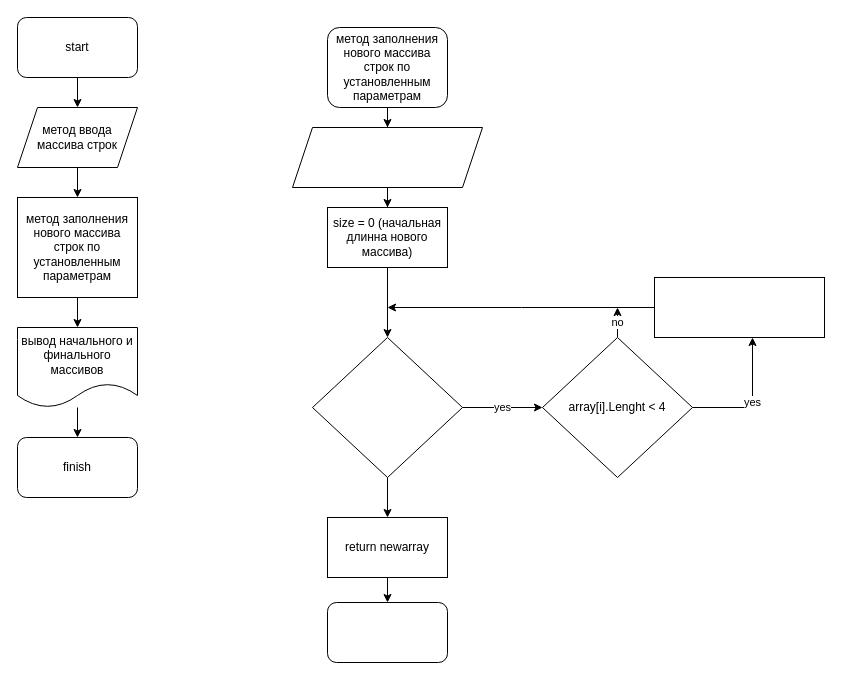
This 842x680 diagram has some shape labels left out. Each missing label, with the box of its shape:
i = 0 i < array.Lenght i ++: (312, 336, 462, 478)
size ++ newarray[size-1] = array[i]: (654, 276, 824, 338)
конец метода: (326, 602, 448, 662)
передача начального массива строк в метод: (292, 126, 482, 188)
